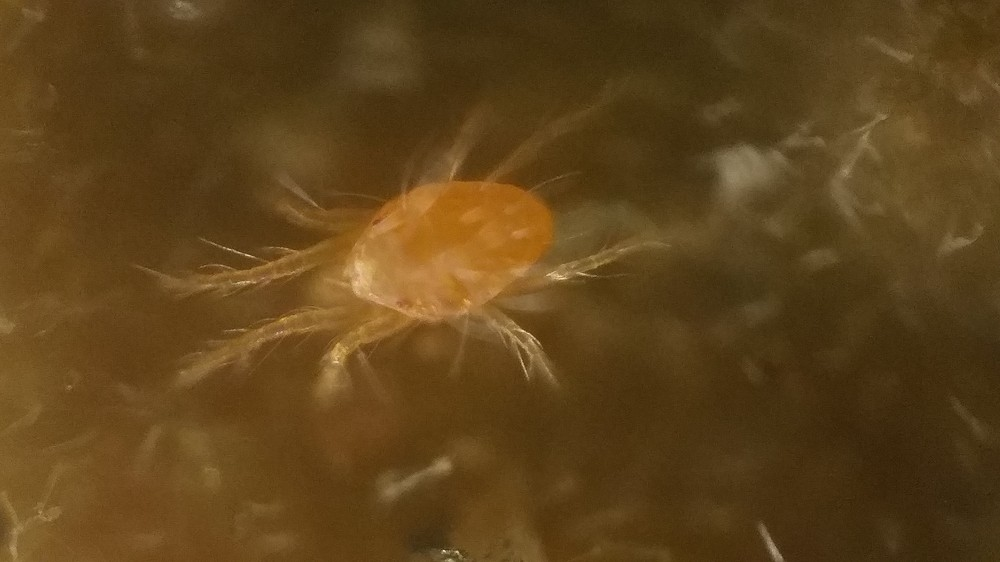Aracnido Rojo: (158, 104, 656, 425)
